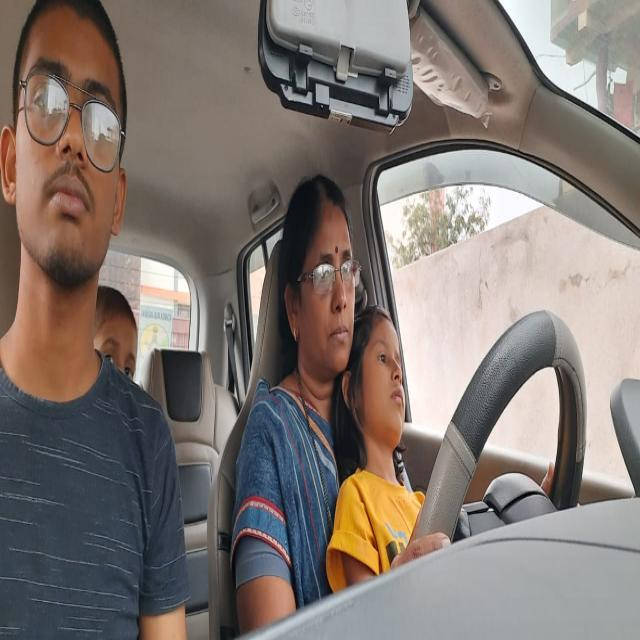child: (351, 309, 411, 466)
person: (0, 0, 131, 349), (280, 175, 358, 371), (98, 278, 144, 378)
